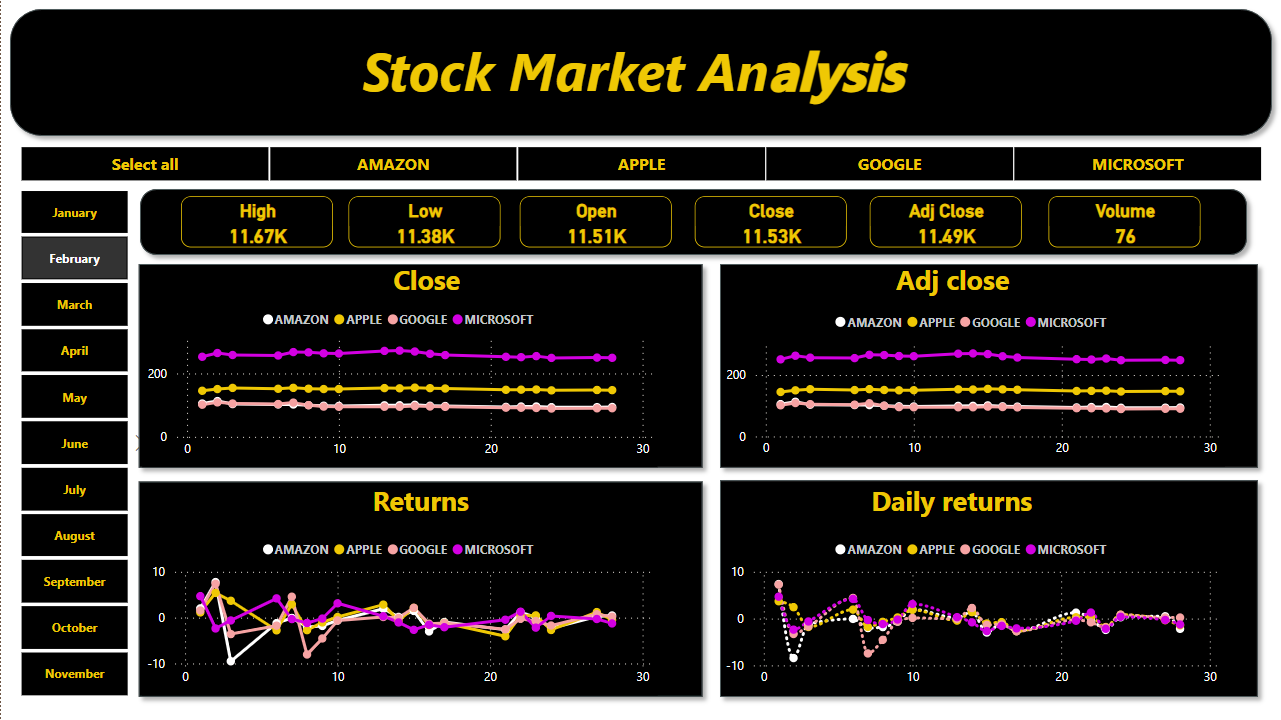

This screenshot's page, from the dashboard's own definition file:
{"tool":"powerbi","page":{"name":"Page 2","canvas":[1280,720],"ordinal":0},"visuals":[{"type":"shape","box":[0,0,1280,145],"z":0},{"type":"slicer","fields":{"Values":["Table1.company_name"]},"box":[0,145,1279,37.5],"z":1000},{"type":"slicer","fields":{"Values":["Table1.Date.Variation.Date Hierarchy.Month"]},"box":[0,189,145,508],"z":2000},{"type":"shape","box":[128.2,254.9,581.8,221.8],"z":3000},{"type":"textbox","box":[171,28.9,921.1,105.4],"z":4000},{"type":"lineChart","fields":{"Y":["Sum(Table1 (2).Close)"],"Series":["Table1 (2).company_name"],"Category":["Table1 (2).Date.Variation.Date Hierarchy.Day"]},"box":[141.1,299.5,515.5,167],"z":5000},{"type":"textbox","box":[270,256,311,46.1],"z":6000},{"type":"shape","box":[709.9,254.9,555.8,221.8],"z":7000},{"type":"textbox","box":[819.4,256,273,46.1],"z":8000},{"type":"shape","box":[709.9,470.9,555.8,234.7],"z":9000},{"type":"textbox","box":[819.4,477,256.3,46.1],"z":10000},{"type":"lineChart","fields":{"Y":["Sum(Table1 (2).Daily Return)"],"Series":["Table1 (2).company_name"],"Category":["Table1 (2).Date.Variation.Date Hierarchy.Day"]},"box":[720,529.9,504,165.6],"z":11000},{"type":"lineChart","fields":{"Y":["Sum(Table1 (2).Adj Close)"],"Series":["Table1 (2).company_name"],"Category":["Table1 (2).Date.Variation.Date Hierarchy.Day"]},"box":[720,302.4,504,164.2],"z":12000},{"type":"shape","box":[130,180,1125,84],"z":13000},{"type":"card","title":"High","fields":{"Values":["Sum(Table1 (2).High)"]},"box":[180,196,152,51],"z":14000},{"type":"shape","box":[128.2,472.3,581.8,233.3],"z":15000},{"type":"textbox","box":[270.7,477,296.6,46.1],"z":16000},{"type":"lineChart","fields":{"Y":["Sum(Table1 (2).returns)"],"Series":["Table1 (2).company_name"],"Category":["Table1 (2).Date.Variation.Date Hierarchy.Day"]},"box":[141.1,529.9,515.5,165.6],"z":17000},{"type":"card","title":"Low","fields":{"Values":["Sum(Table1 (2).Low)"]},"box":[347,196,152,51],"z":18000},{"type":"card","title":"Open","fields":{"Values":["Sum(Table1 (2).Open)"]},"box":[518.4,196,152,51],"z":19000},{"type":"card","title":"Close","fields":{"Values":["Sum(Table1 (2).Close)"]},"box":[694.1,196,152,51],"z":20000},{"type":"card","title":"Adj Close","fields":{"Values":["Sum(Table1 (2).Adj Close)"]},"box":[868.3,196,152,51],"z":21000},{"type":"card","title":"Volume","fields":{"Values":["CountNonNull(Table1 (2).Volume)"]},"box":[1046.9,196,152,51],"z":22000}]}

Visuals, with their boxes in screenshot pixels (x1, y1, x2, y2), scaled from the page's 1280x720 canvas onto the 1281x720 screenshot:
shape: BBox(0, 0, 1280, 145)
slicer - Table1.company_name: BBox(0, 145, 1280, 182)
slicer - Table1.Date.Variation.Date Hierarchy.Month: BBox(0, 189, 145, 697)
shape: BBox(128, 255, 711, 477)
textbox: BBox(171, 29, 1093, 134)
lineChart - Sum(Table1 (2).Close) x Table1 (2).company_name: BBox(141, 300, 657, 466)
textbox: BBox(270, 256, 581, 302)
shape: BBox(710, 255, 1267, 477)
textbox: BBox(820, 256, 1093, 302)
shape: BBox(710, 471, 1267, 706)
textbox: BBox(820, 477, 1077, 523)
lineChart - Sum(Table1 (2).Daily Return) x Table1 (2).company_name: BBox(721, 530, 1225, 696)
lineChart - Sum(Table1 (2).Adj Close) x Table1 (2).company_name: BBox(721, 302, 1225, 467)
shape: BBox(130, 180, 1256, 264)
"High" card: BBox(180, 196, 332, 247)
shape: BBox(128, 472, 711, 706)
textbox: BBox(271, 477, 568, 523)
lineChart - Sum(Table1 (2).returns) x Table1 (2).company_name: BBox(141, 530, 657, 696)
"Low" card: BBox(347, 196, 499, 247)
"Open" card: BBox(519, 196, 671, 247)
"Close" card: BBox(695, 196, 847, 247)
"Adj Close" card: BBox(869, 196, 1021, 247)
"Volume" card: BBox(1048, 196, 1200, 247)
